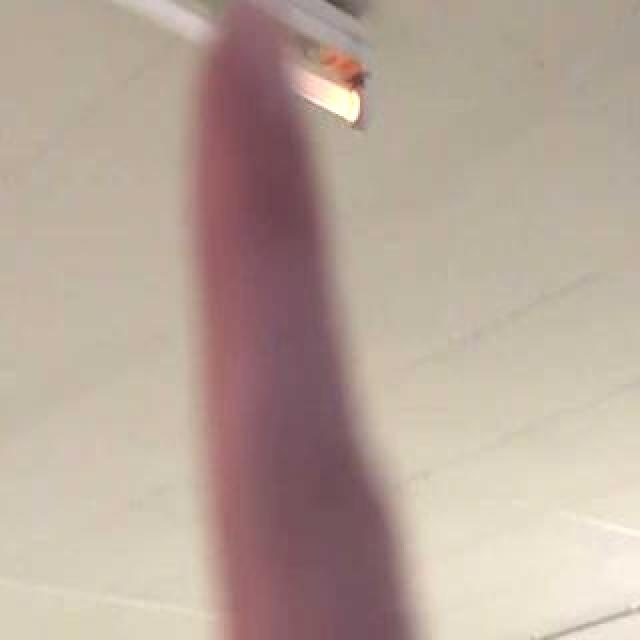fluorescent tube: (0, 0, 390, 192)
